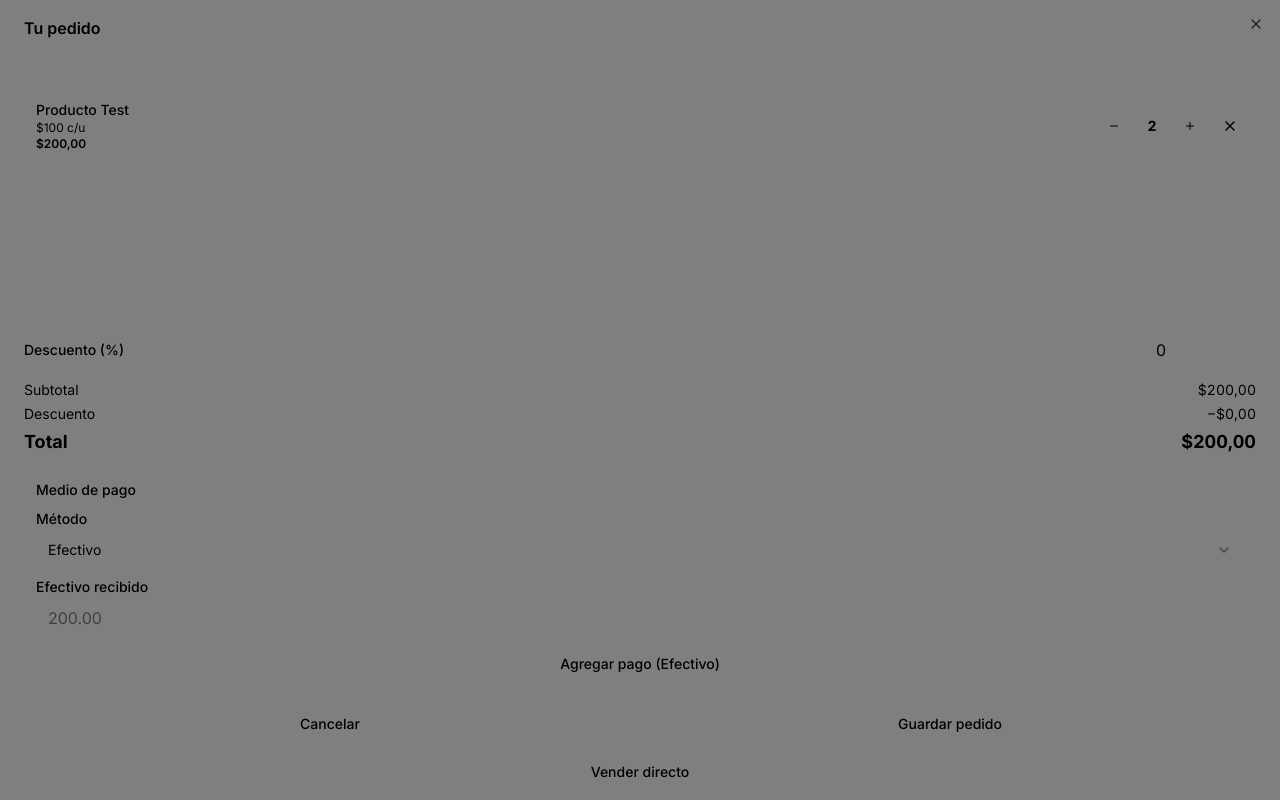
Test: VendorCartSheet — medios de pago (R6-R8, R10) › muestra vuelto = round2(recibido - total) solo con efectivo de más
The image size is (1280, 800).
Type "500" into the number field labelled "Efectivo recibido" at [640, 618], box [36,600,1244,636]
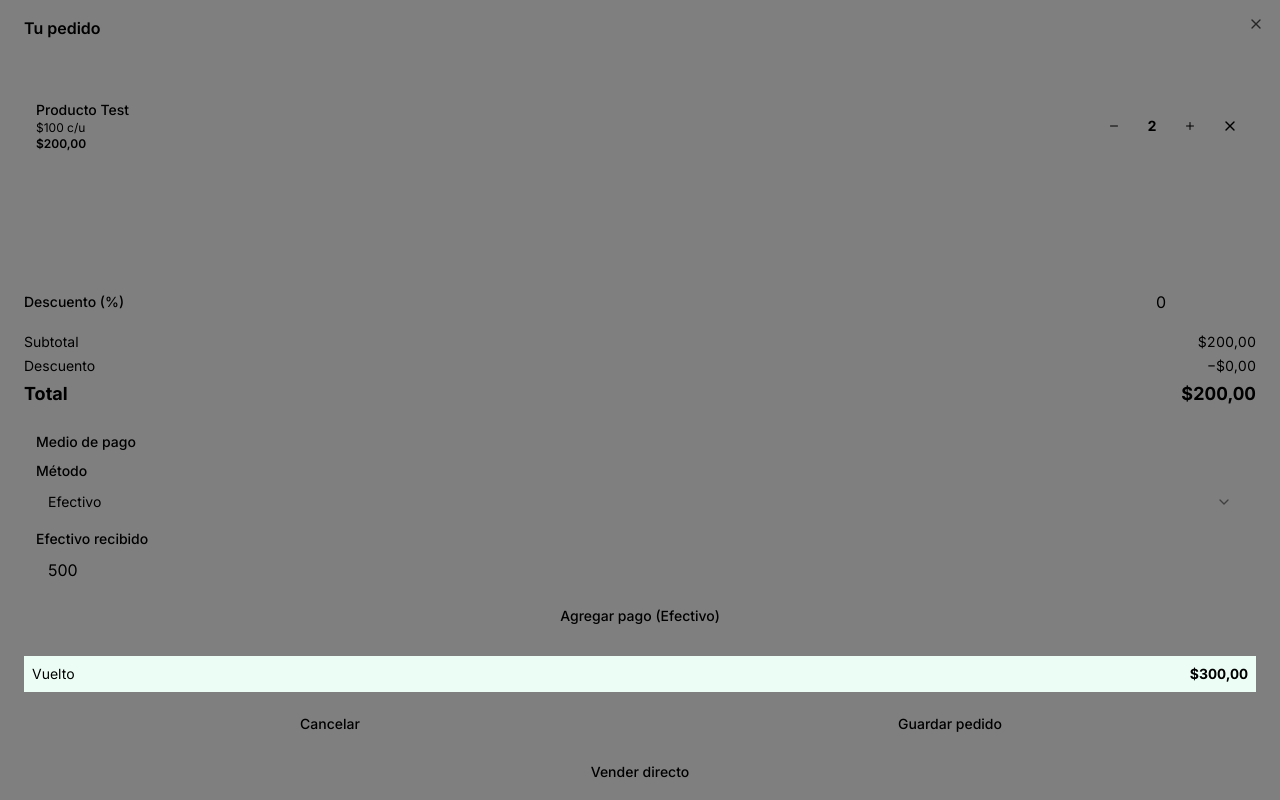
Check: the text "Vuelto" is shown, box [32,664,74,684]
Check: the text "$300,00" is shown, box [1190,664,1248,684]
